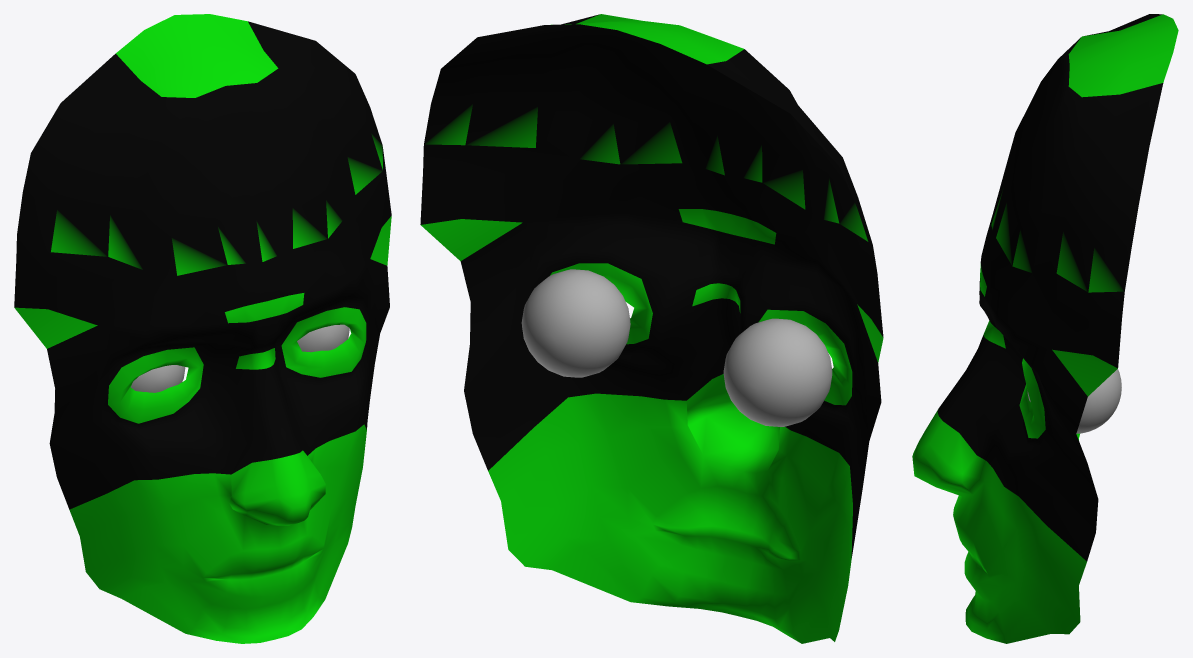
The picture shows the model from 3 angles, left to right: view 1: azimuth 30°, elevation 25°; view 2: azimuth 150°, elevation 25°; view 3: azimuth 270°, elevation 25°; orthographic projection. The views are drawn at different scales.
Visible parts, largest first — view 1: SM_Face, SM_Left, SM_R_Eye; view 2: SM_Face, SM_Left, SM_R_Eye; view 3: SM_Face, SM_R_Eye.
Boxes of the visible parts, box(x1,y1,x2,y2) form: SM_Face: box(14, 14, 391, 643); SM_Left: box(131, 365, 185, 392); SM_R_Eye: box(297, 324, 349, 352); SM_Face: box(420, 14, 883, 643); SM_Left: box(723, 318, 832, 426); SM_R_Eye: box(521, 269, 630, 377); SM_Face: box(912, 14, 1178, 643); SM_R_Eye: box(1027, 369, 1121, 433).
Size of the model in its own units: 0.298 by 0.4159 by 0.171.
